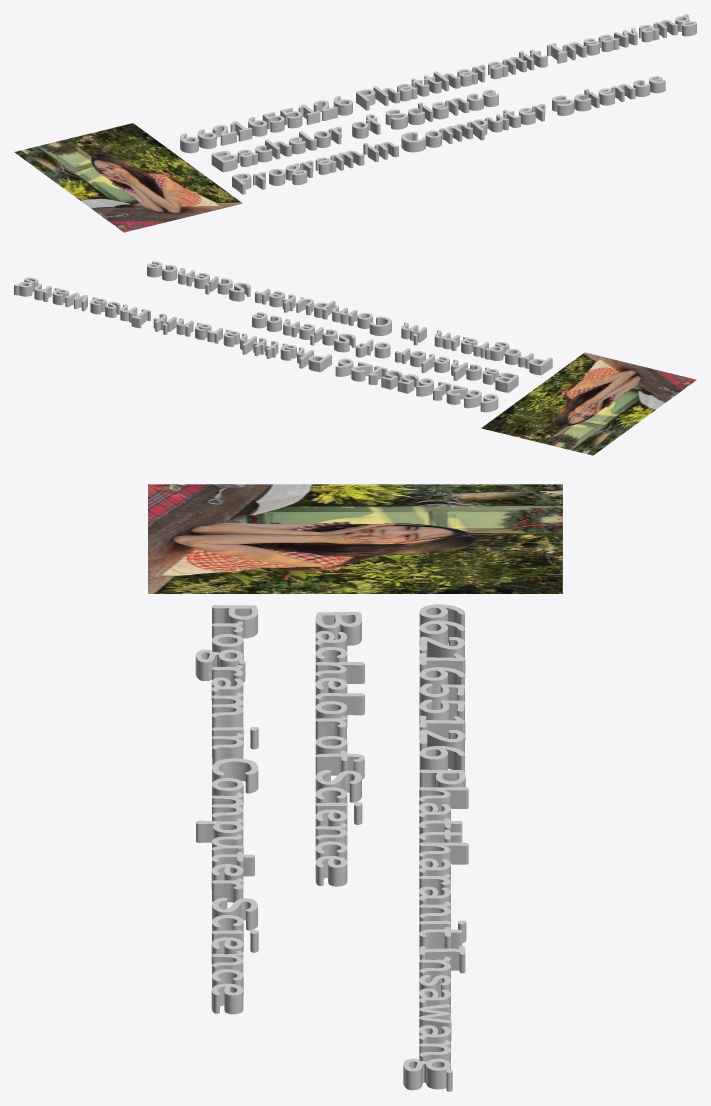
The model's file is name.glb.
The picture shows the model from 3 angles, top to bottom: view 1: azimuth 30°, elevation 25°; view 2: azimuth 150°, elevation 25°; view 3: azimuth 270°, elevation 25°; orthographic projection. The views are drawn at different scales.
Parts seen in each view (by area): view 1: Text, Plane; view 2: Text, Plane; view 3: Text, Plane.
Boxes of the visible parts, x1,y1,x2,y2 form: Text: (180, 14, 696, 194); Plane: (14, 123, 242, 232); Text: (14, 261, 552, 412); Plane: (481, 352, 696, 455); Text: (195, 604, 468, 1091); Plane: (148, 484, 562, 593).
Bounding box in the file's own units: 13.52 × 0.2 × 4.
Materials: 1 (1 with a texture image).
